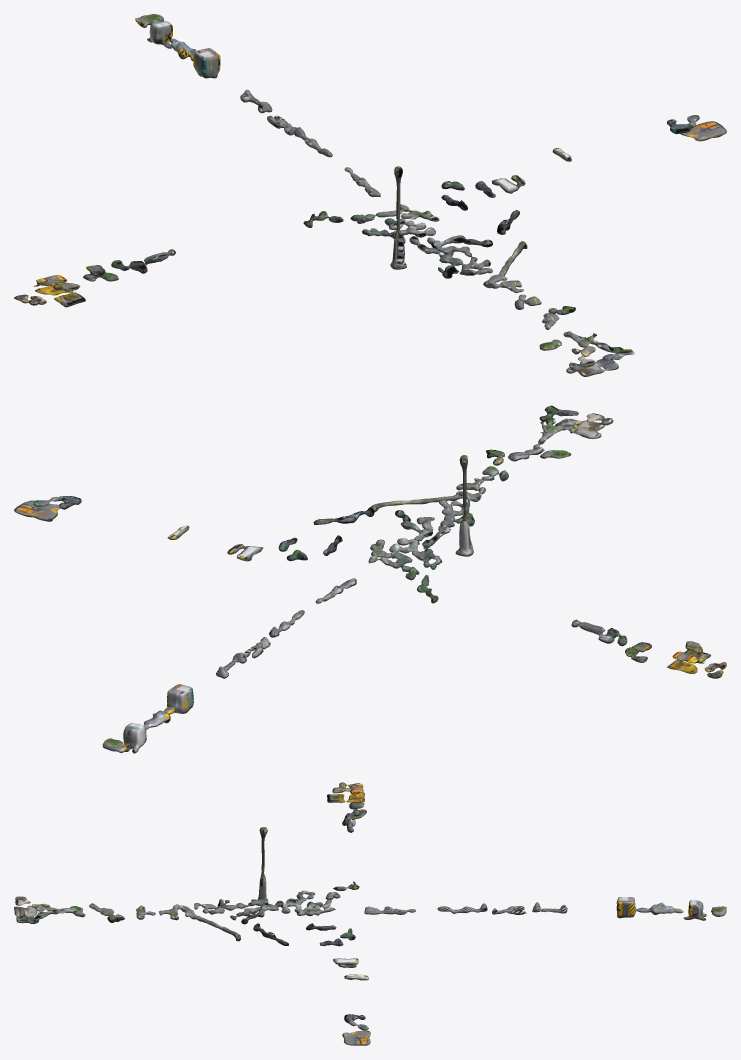
Rendered from AI_RoadTJunction.fbx.
The picture shows the model from 3 angles, top to bottom: view 1: azimuth 30°, elevation 25°; view 2: azimuth 150°, elevation 25°; view 3: azimuth 270°, elevation 25°; orthographic projection. The views are drawn at different scales.
Parts seen in each view (by area): view 1: Mesh_0; view 2: Mesh_0; view 3: Mesh_0.
Boxes of the visible parts, left/top/right/bottom form: Mesh_0: left=14, top=14, right=726, bottom=376; Mesh_0: left=14, top=405, right=726, bottom=753; Mesh_0: left=14, top=782, right=726, bottom=1045.
Size of the model in its own units: 175 by 23.94 by 201.
1 material, 1 textured.
